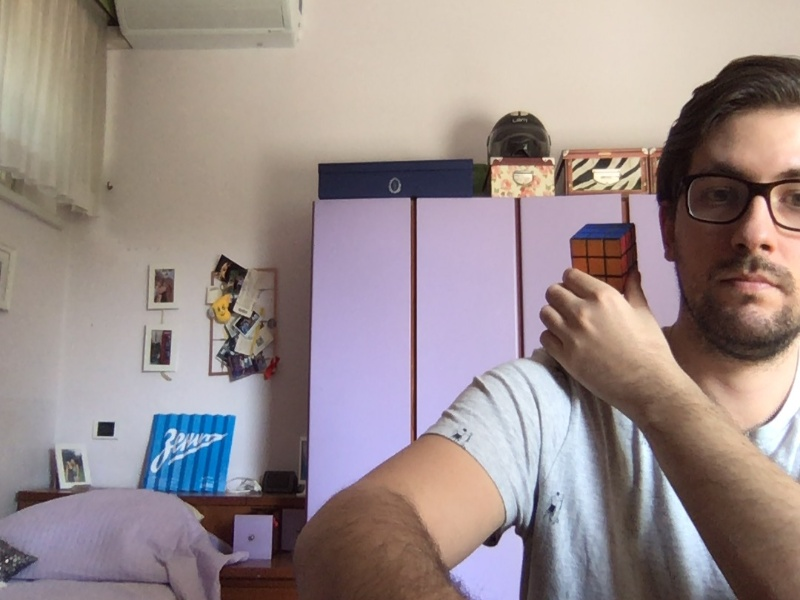rubik: (571, 221, 639, 299)
